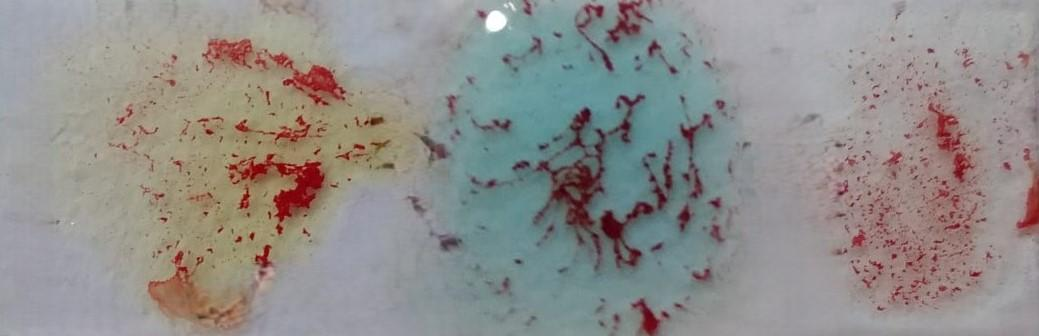A: (440, 7, 730, 336)
B: (96, 11, 355, 314)
D: (842, 28, 1028, 318)
